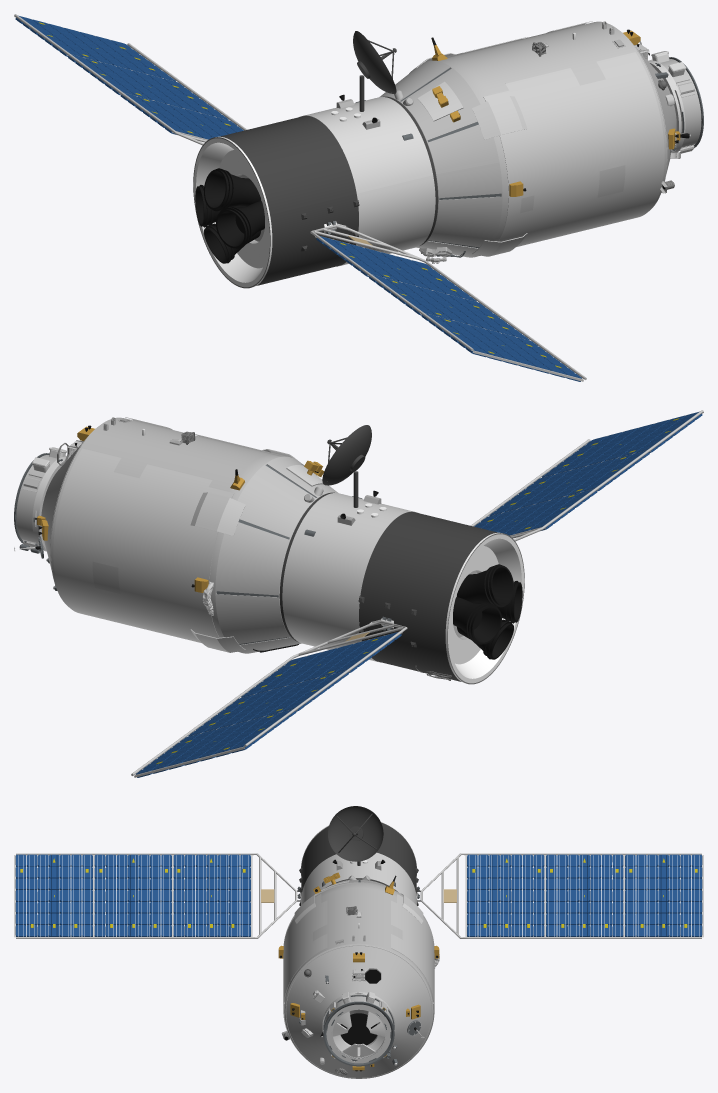
Rendered from weixing1.glb.
The picture shows the model from 3 angles, top to bottom: view 1: azimuth 30°, elevation 25°; view 2: azimuth 150°, elevation 25°; view 3: azimuth 270°, elevation 25°; orthographic projection. The views are drawn at different scales.
Parts seen in each view (by area): view 1: 管道_3.115, Box10_1.39, Cylinder08.215, 管道_3_2.196, 管道_5.193, 管道_6.192, 圆柱_1_2.37, Cylinder76.187, Cylinder75.188, 管道_9.48, 管道_8_16.250, 球体.121 (+6 smaller); view 2: 管道_3.115, Box10_1.39, Cylinder08.215, 管道_3_2.196, 管道_6.192, 管道_5.193, 圆柱_1_2.37, Cylinder76.187, Cylinder73.190, 管道_13.46, 球体.121, 管道_8_16.250 (+5 smaller); view 3: Box10_1.39, Cylinder08.215, 管道_3.115, 圆柱_1_2.37, 管道_5.193, 球体.121, 管道_3_2.196, Line11_2.40, 管道_8_16.250, 管道_1_7.248, 管道_2_2.114, 管道_4.98.
Boxes of the visible parts, x1,y1,x2,y2 form: 管道_3.115: (432, 21, 664, 255); Box10_1.39: (15, 15, 581, 381); Cylinder08.215: (193, 21, 676, 288); 管道_3_2.196: (220, 96, 438, 285); 管道_5.193: (300, 97, 435, 266); 管道_6.192: (380, 60, 502, 257); 圆柱_1_2.37: (14, 14, 586, 379); Cylinder76.187: (204, 168, 260, 211); Cylinder75.188: (216, 201, 264, 248); 管道_9.48: (472, 96, 527, 139); 管道_8_16.250: (655, 57, 703, 150); 球体.121: (353, 31, 396, 93); 管道_3.115: (53, 417, 285, 651); Box10_1.39: (136, 411, 702, 777); Cylinder08.215: (41, 417, 524, 684); 管道_3_2.196: (279, 492, 497, 681); 管道_6.192: (215, 456, 338, 653); 管道_5.193: (282, 493, 417, 662); 圆柱_1_2.37: (131, 410, 703, 775); Cylinder76.187: (457, 564, 513, 607); Cylinder73.190: (453, 597, 501, 644); 管道_13.46: (190, 492, 245, 536); 球体.121: (322, 425, 371, 485); 管道_8_16.250: (14, 453, 62, 549); Box10_1.39: (15, 854, 702, 936); Cylinder08.215: (284, 821, 433, 1078); 管道_3.115: (283, 894, 434, 1064); 圆柱_1_2.37: (16, 853, 701, 938); 管道_5.193: (301, 852, 416, 905); 球体.121: (328, 806, 383, 861); 管道_3_2.196: (301, 823, 416, 895); Line11_2.40: (14, 855, 703, 937); 管道_8_16.250: (323, 995, 394, 1066); 管道_1_7.248: (326, 1004, 391, 1063); 管道_2_2.114: (285, 945, 432, 1078); 管道_4.98: (333, 1009, 384, 1055).
Bounding box in the file's own units: 640 × 312 × 1082.
